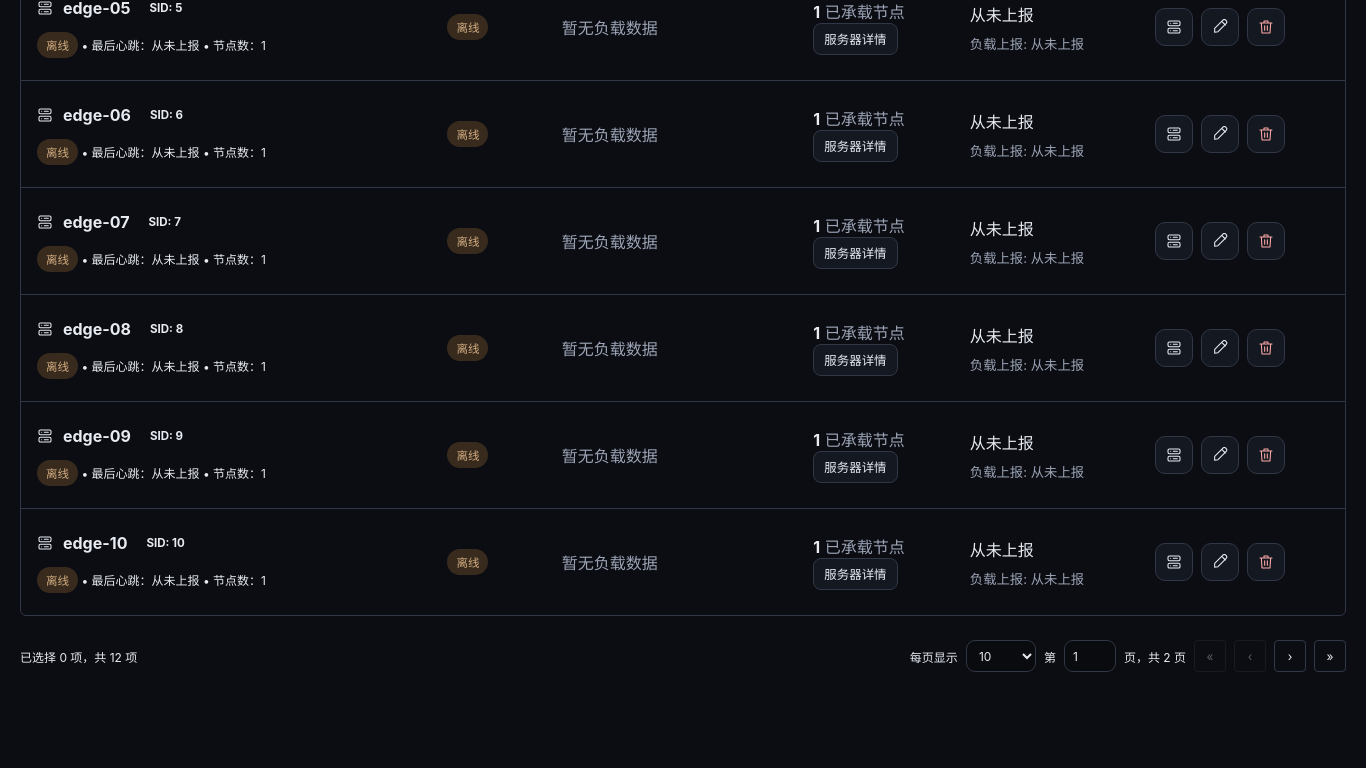
it: ServerManagementPage › paginates the server table and resets the page when searching
This screenshot has width=1366, height=768.
(page scrolled)
Expected: the text "edge-12" is not shown
Click the button named "下一页" at (1290, 656), box [1274,640,1306,672]
(page scrolled)
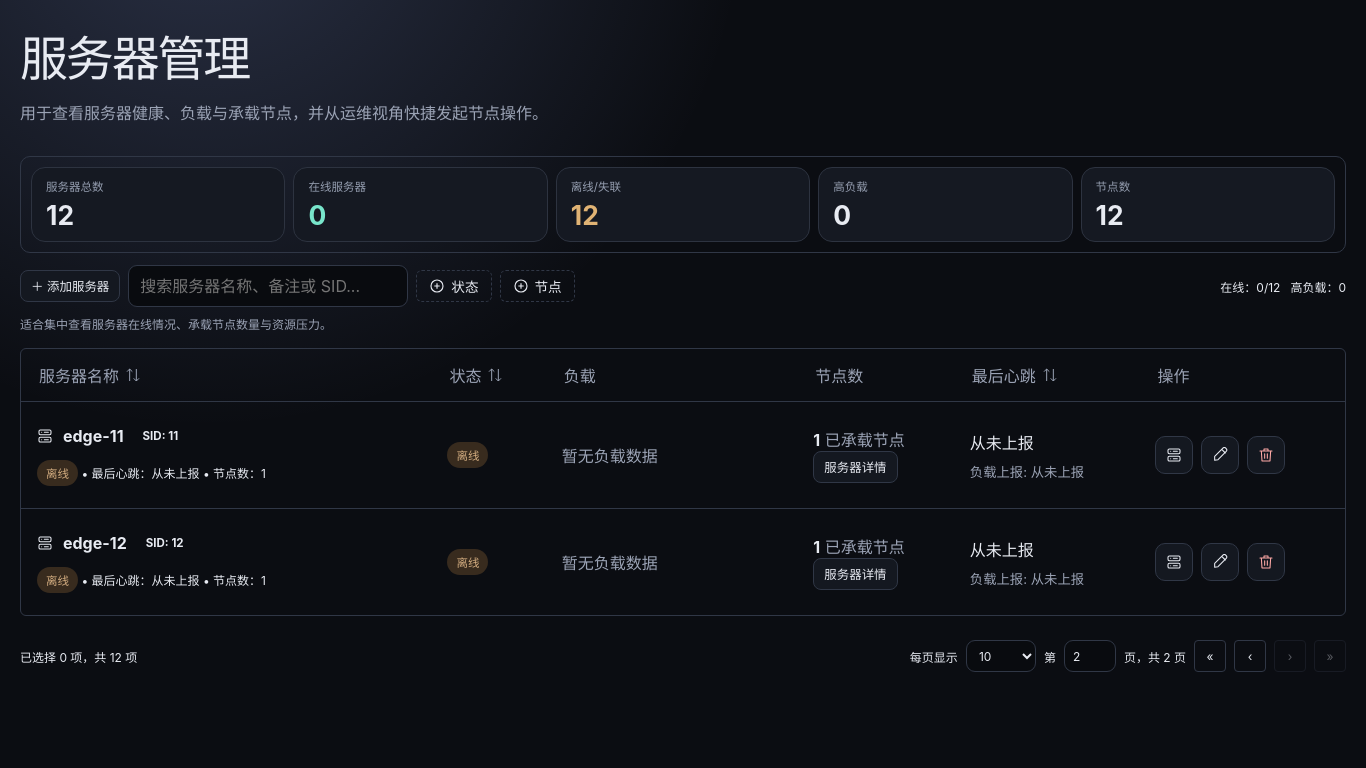
Result: the text "edge-12" is shown at [63,533,127,553]
Type "edge-01" into the search field labelled "搜索" at (268, 286), box [128,265,408,307]
(page scrolled)
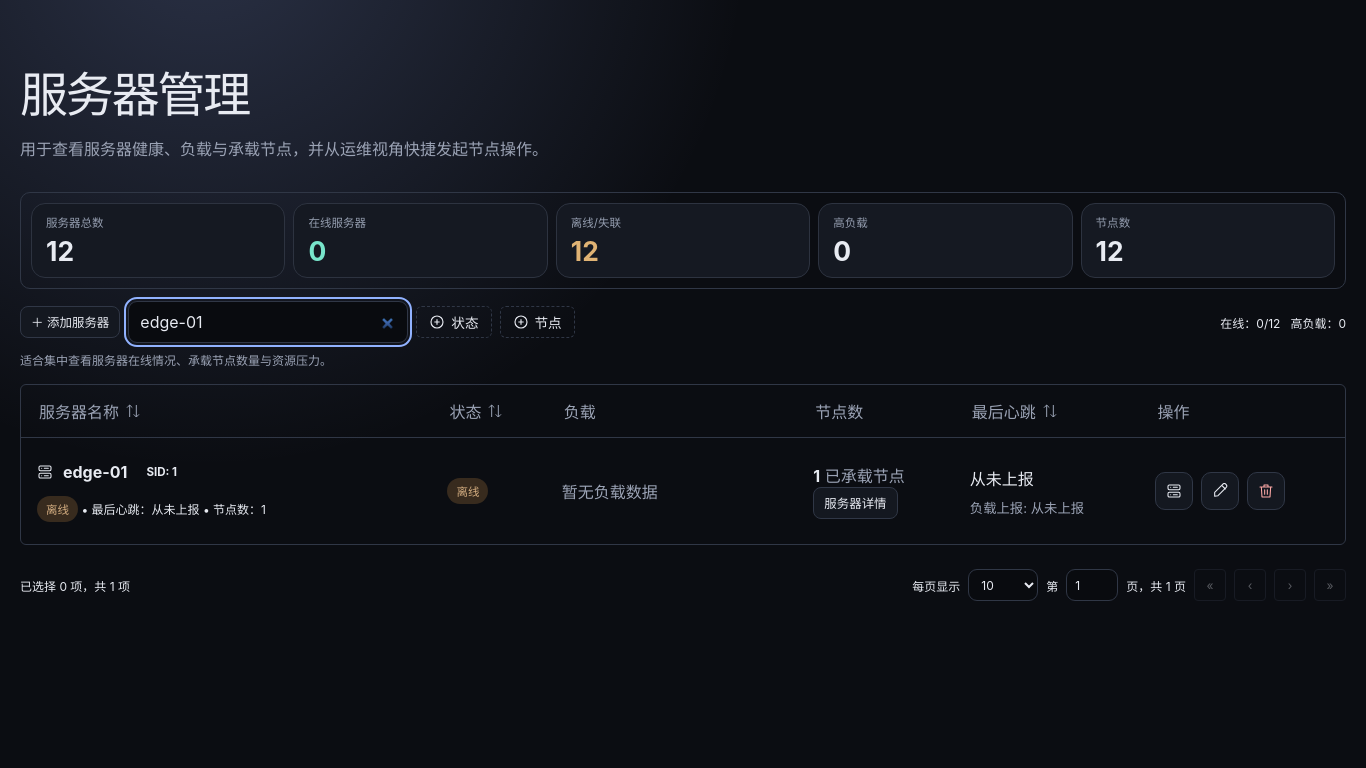
Result: the text "edge-01" is shown at [63,462,127,482]
Result: the number field named "页码" holds "1" at [1066,569,1118,601]
